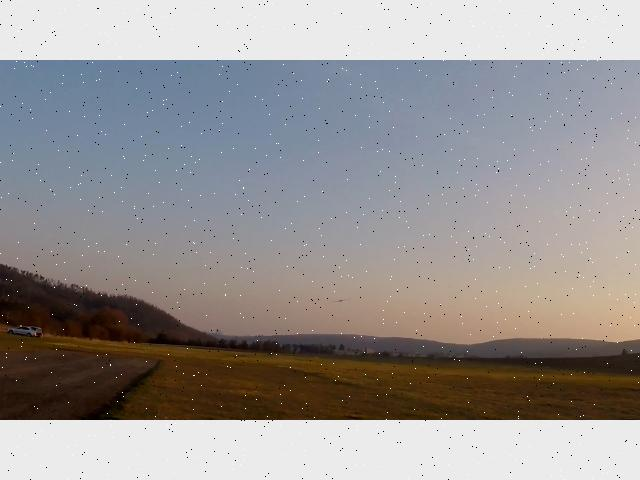Anti-Drone: (330, 297, 350, 303)
